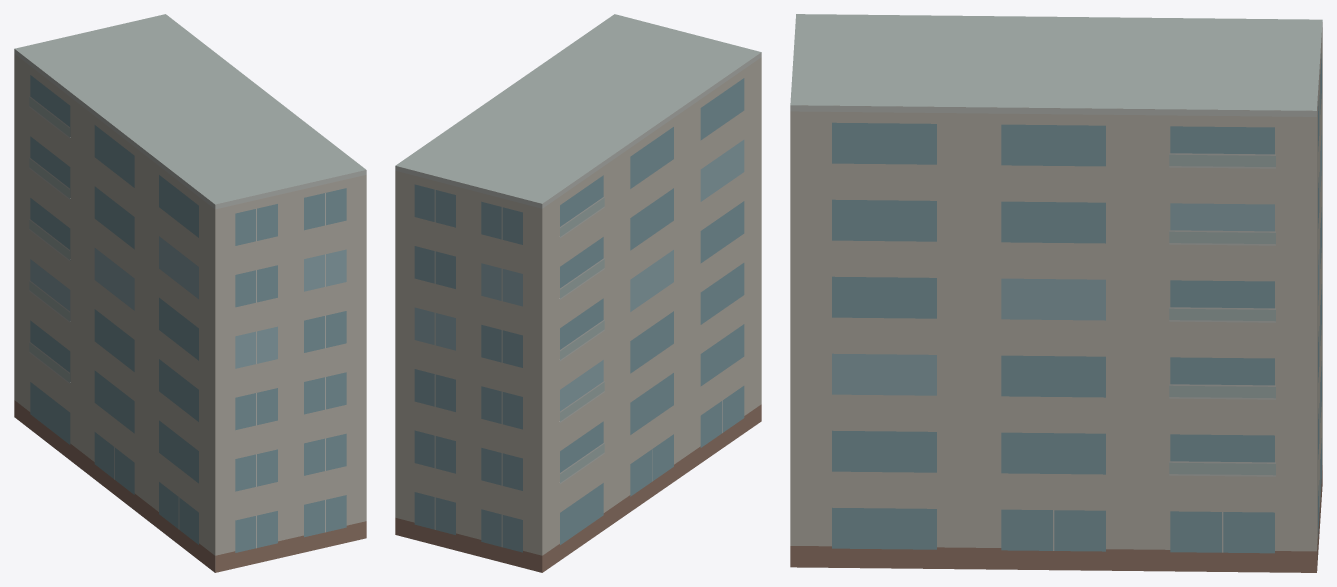
The model's file is survey-upis-32919598.glb.
3 views of the same model, side by side, from view 1: azimuth 30°, elevation 25°; view 2: azimuth 150°, elevation 25°; view 3: azimuth 270°, elevation 25° (orthographic). The views are drawn at different scales.
Parts seen in each view (by area): view 1: survey-upis-32919598.tmp; view 2: survey-upis-32919598.tmp; view 3: survey-upis-32919598.tmp.
Boxes of the visible parts, x1,y1,x2,y2 form: survey-upis-32919598.tmp: (14, 14, 366, 572); survey-upis-32919598.tmp: (395, 14, 761, 572); survey-upis-32919598.tmp: (790, 14, 1322, 572).
Bounding box in the file's own units: 8.28 × 18.4 × 19.22.
